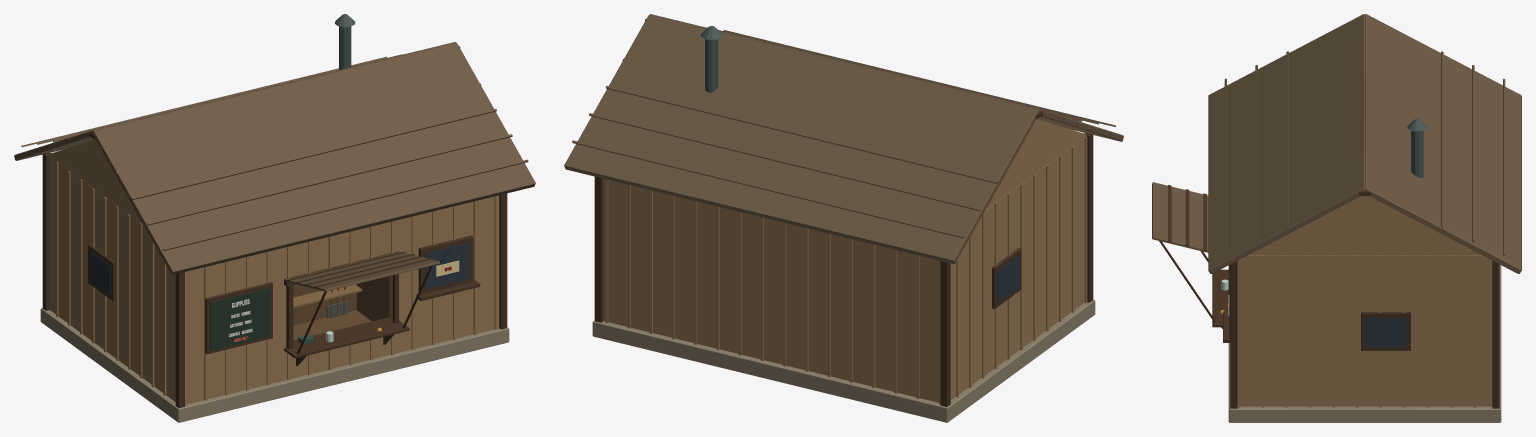
File: WreckRoom.glb
The picture shows the model from 3 angles, left to right: view 1: azimuth 30°, elevation 25°; view 2: azimuth 150°, elevation 25°; view 3: azimuth 270°, elevation 25°; orthographic projection. The views are drawn at different scales.
Parts seen in each view (by area): view 1: WreckRoom.001; view 2: WreckRoom.001; view 3: WreckRoom.001.
Part boxes in pixels (<box>): WreckRoom.001: <box>14,14,535,422</box>; WreckRoom.001: <box>564,14,1123,422</box>; WreckRoom.001: <box>1152,14,1521,422</box>.
Bounding box in the file's own units: 7.95 × 5.7 × 7.05.
